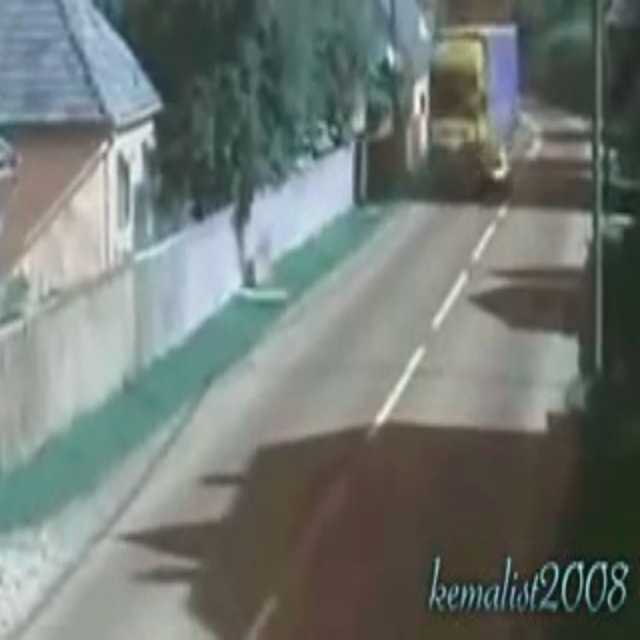acc: (413, 118, 534, 205)
